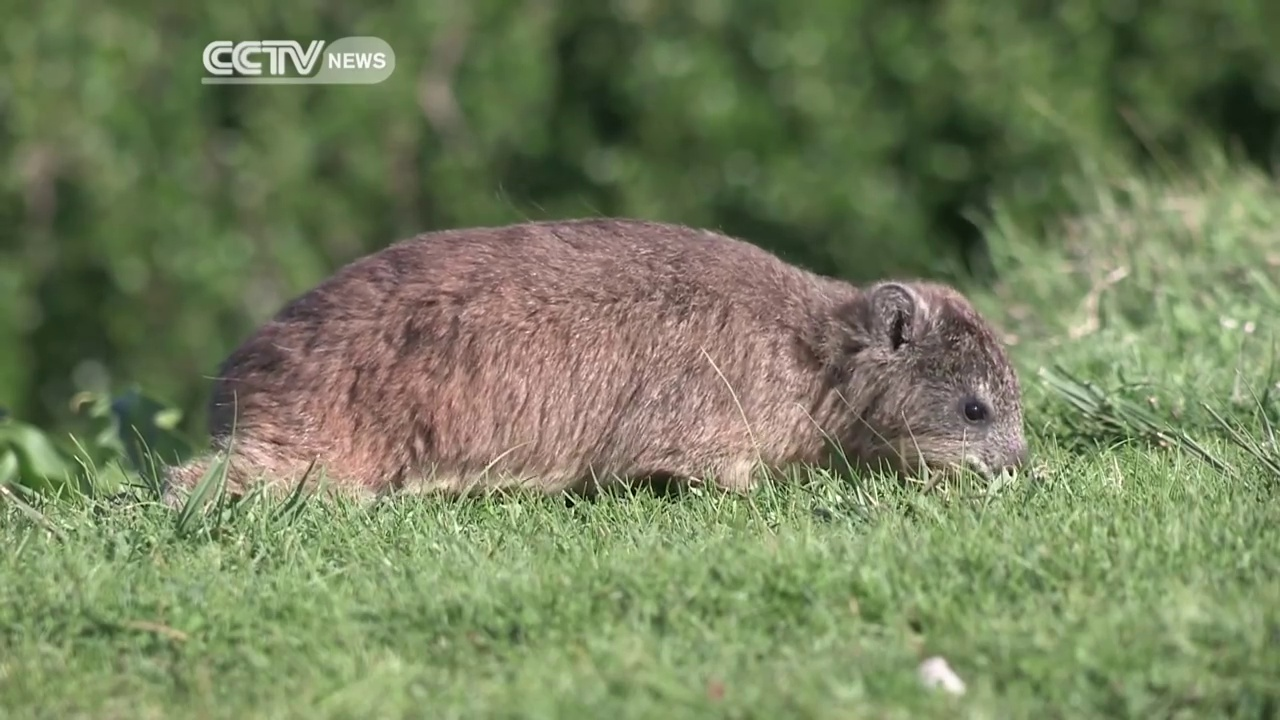Rock Hyrex: (203, 213, 1037, 496)
